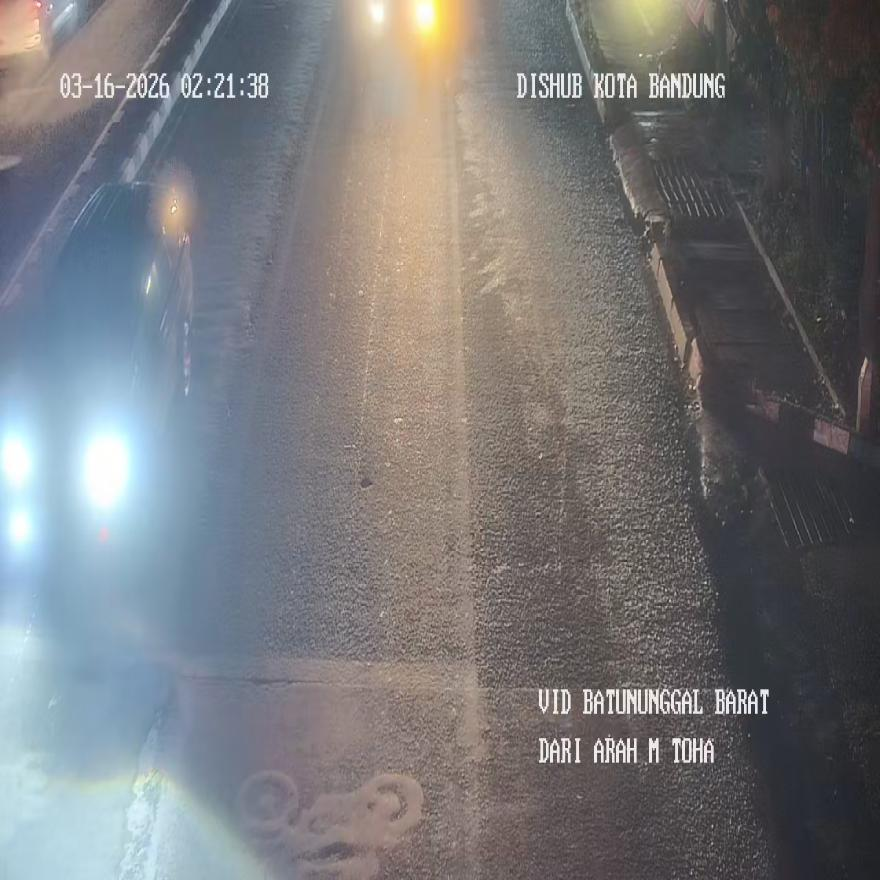Motor: (0, 182, 194, 573)
